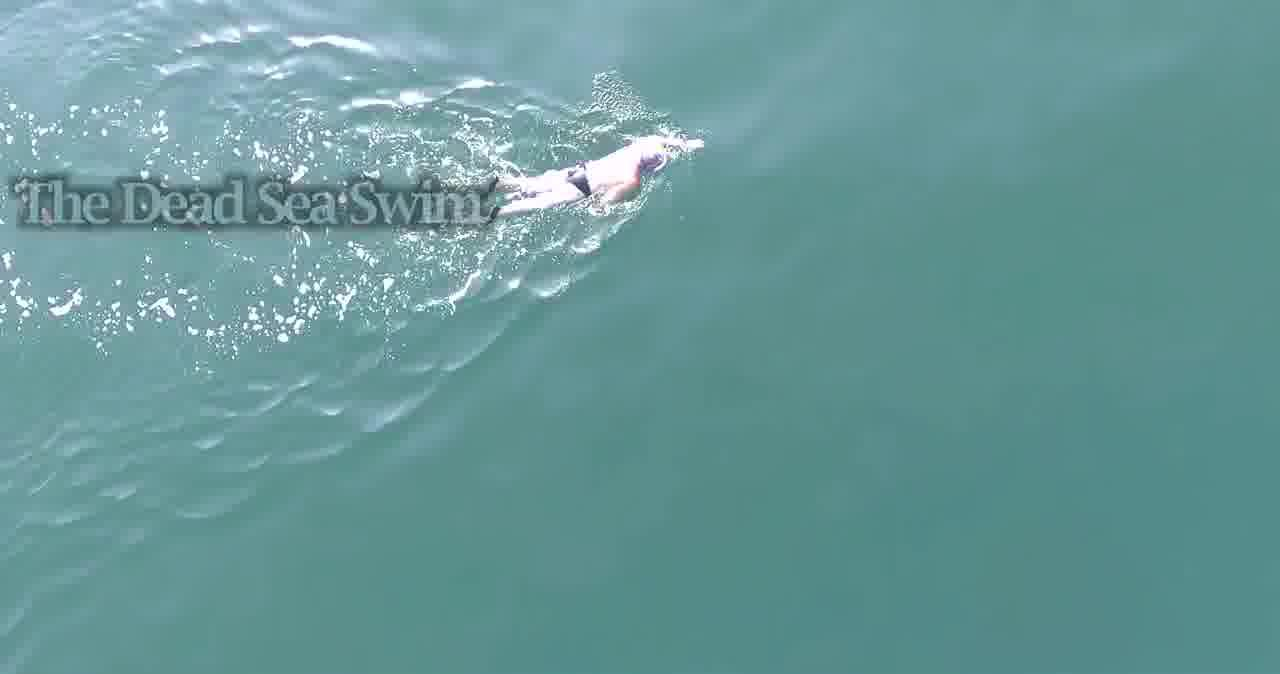swimmer: (490, 133, 709, 220)
